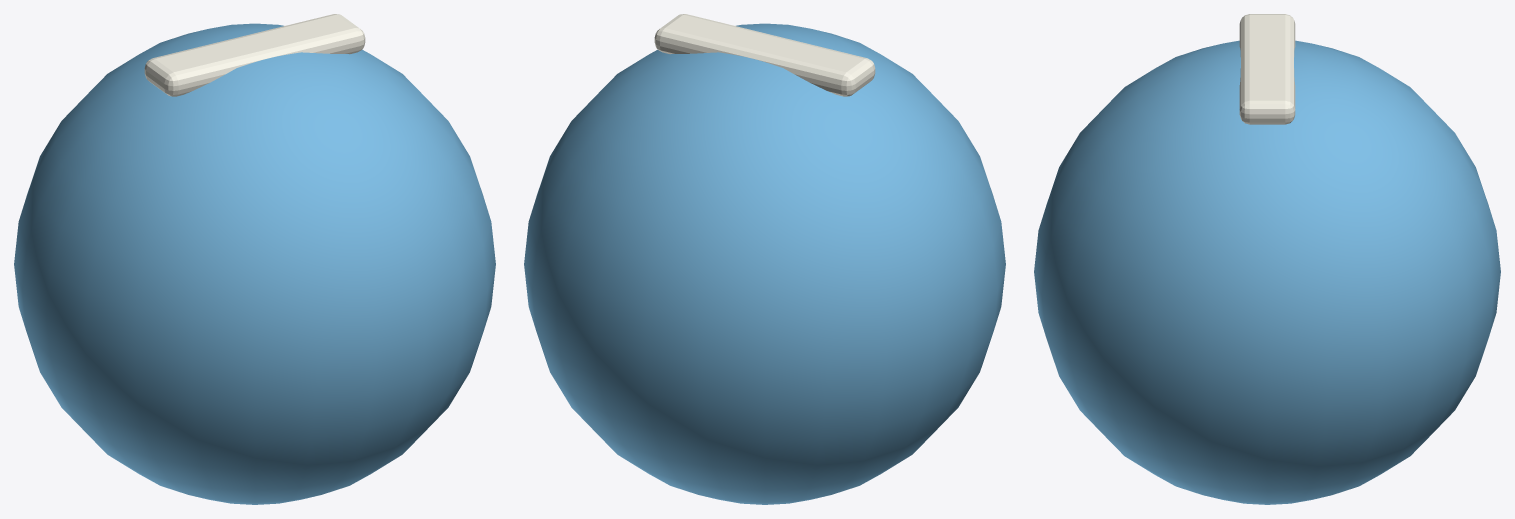
Rendered from electron.glb.
The picture shows the model from 3 angles, left to right: view 1: azimuth 30°, elevation 25°; view 2: azimuth 150°, elevation 25°; view 3: azimuth 270°, elevation 25°; orthographic projection. The views are drawn at different scales.
Parts seen in each view (by area): view 1: electron_textured_mesh; view 2: electron_textured_mesh; view 3: electron_textured_mesh.
Boxes of the visible parts, <box> form: electron_textured_mesh: <box>14,14,495,504</box>; electron_textured_mesh: <box>524,14,1005,504</box>; electron_textured_mesh: <box>1034,14,1500,504</box>.
Size of the model in its own units: 0.92 by 0.925 by 0.92.
Materials: 1 (1 with a texture image).
